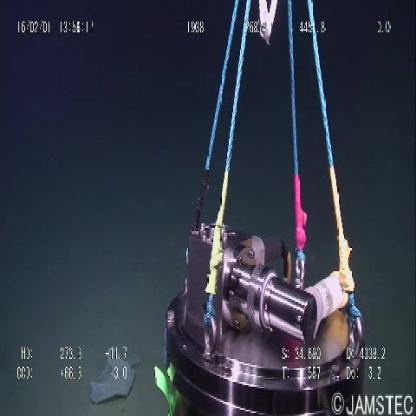Rov: (154, 1, 366, 413)
Rác: (83, 344, 143, 404)
